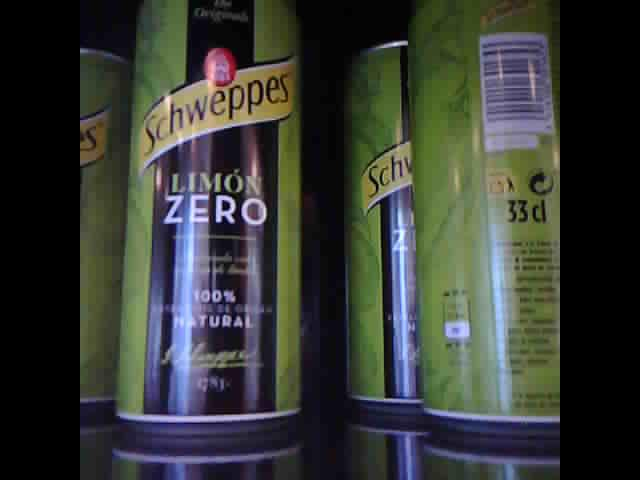schweppes: (112, 6, 307, 430), (415, 2, 561, 432), (344, 26, 413, 424), (80, 36, 129, 414)
